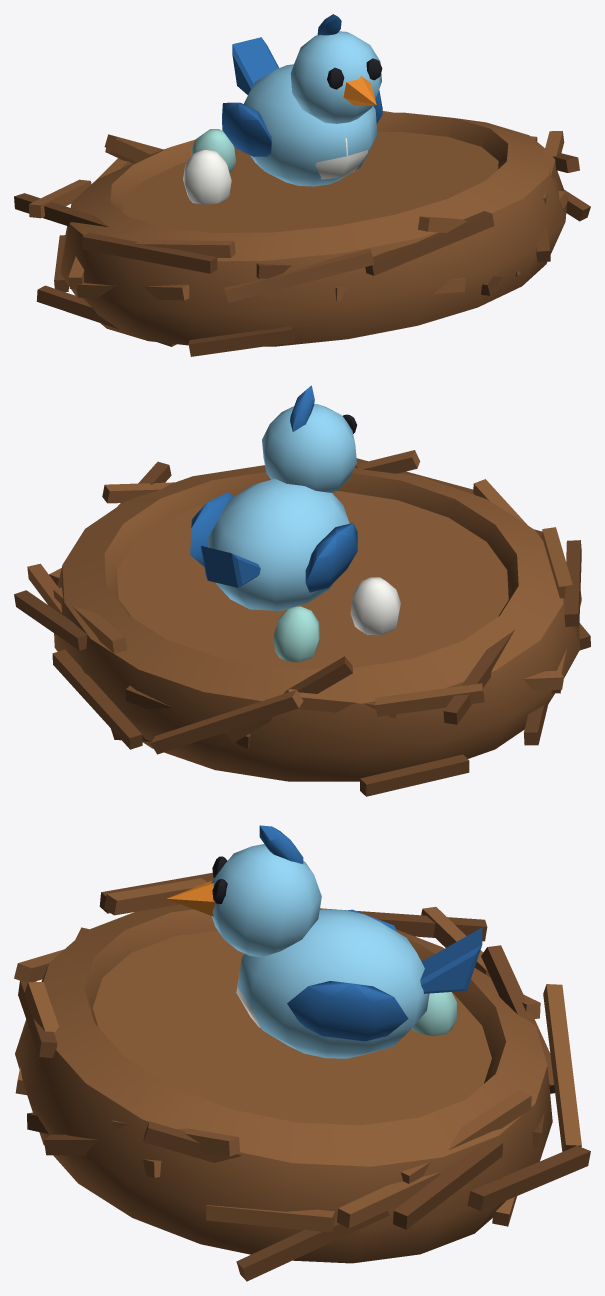
File: NidoPajaro.fbx
The picture shows the model from 3 angles, top to bottom: view 1: azimuth 30°, elevation 25°; view 2: azimuth 150°, elevation 25°; view 3: azimuth 270°, elevation 25°; orthographic projection. The views are drawn at different scales.
Parts seen in each view (by area): view 1: NidoPajaro; view 2: NidoPajaro; view 3: NidoPajaro.
Part boxes in pixels (x1,y1,x2,y2): NidoPajaro: (14,14,590,356); NidoPajaro: (14,385,590,796); NidoPajaro: (14,825,590,1281).
Bounding box in the file's own units: 1.39 × 0.76 × 1.13.
1 material, 1 textured.
